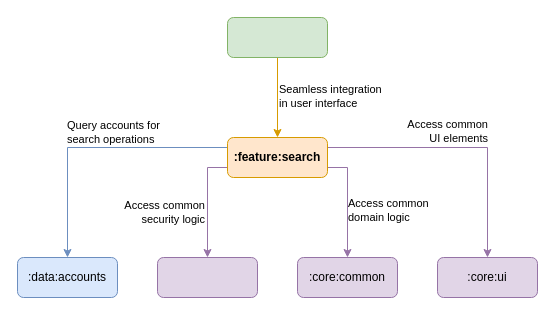
The diagram is 555 pixels wide and 315 high, and some of its shapes have lost their labels. The shapes that lost their labels are listed below. From the top down, each one's centre as x and y in pixels, then its label:
At pixel 277 37: ":app".
At pixel 207 277: ":core:security".
